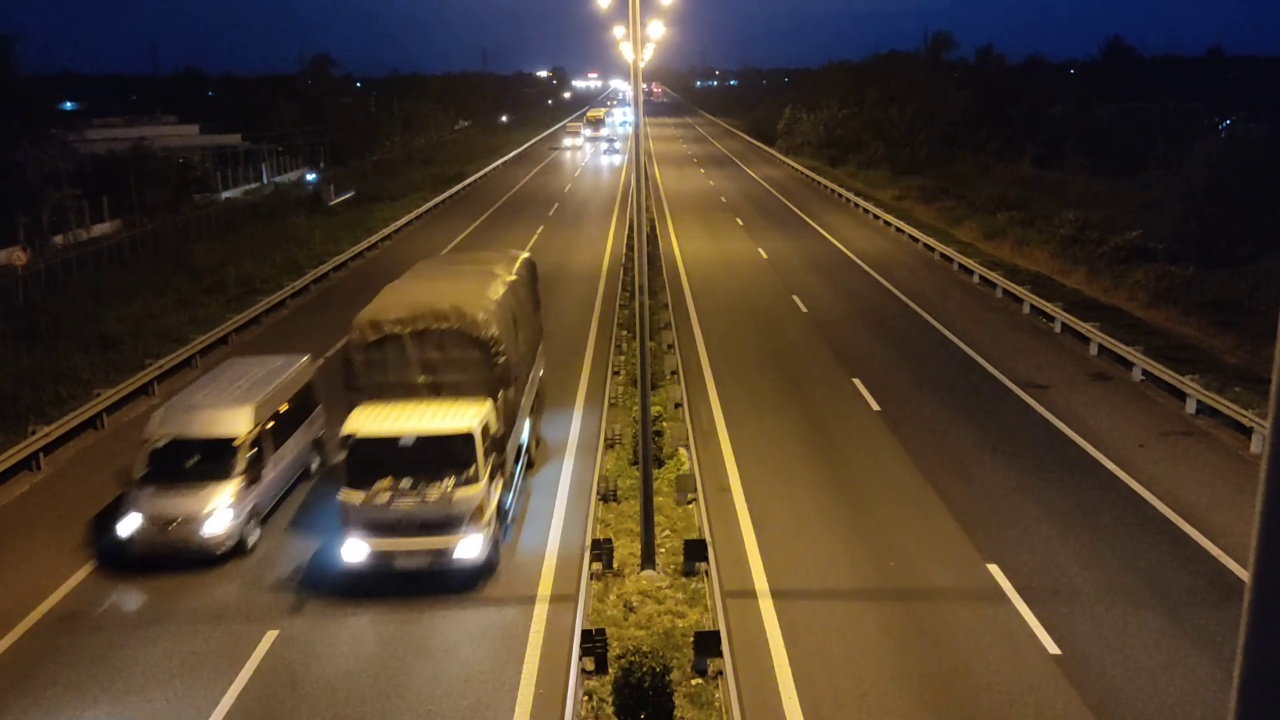car: (109, 350, 325, 568)
truck: (310, 249, 547, 597)
